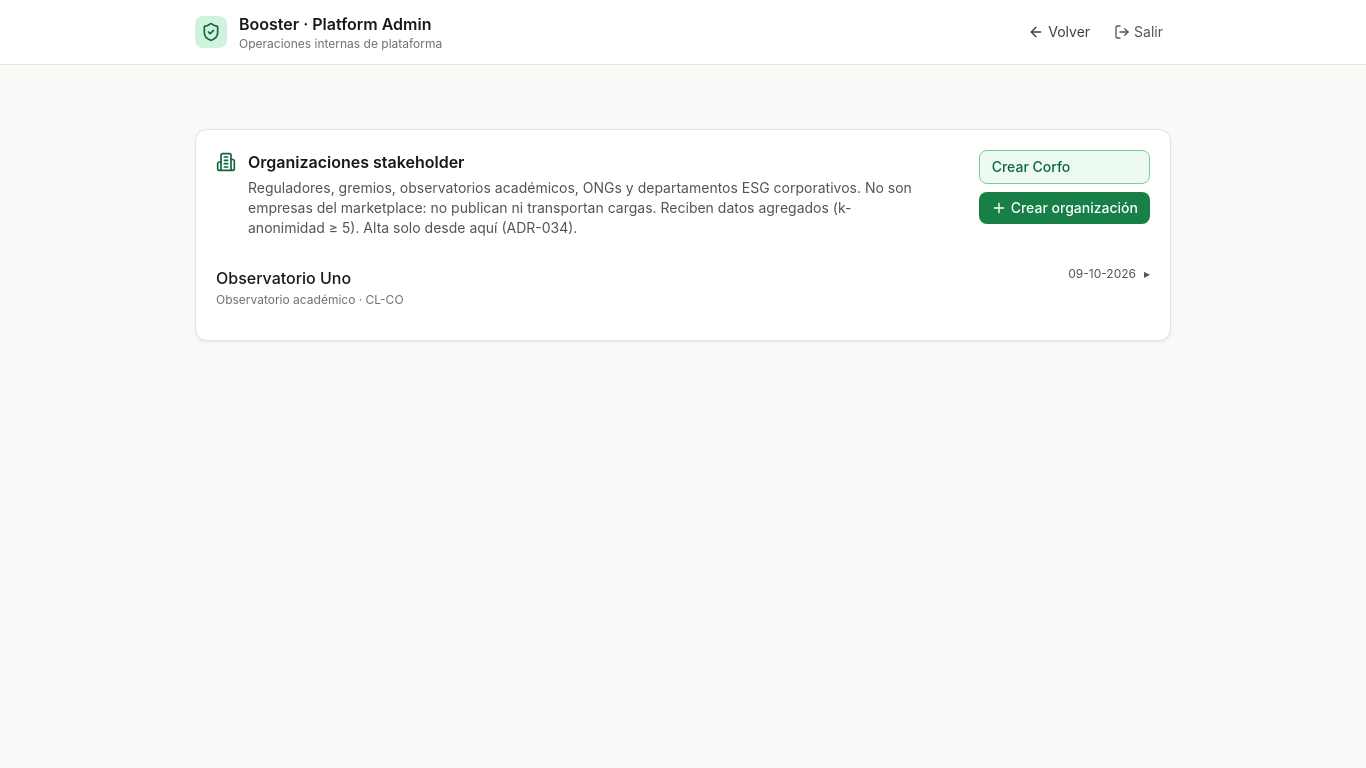
Test: invitar miembro stakeholder › si la persona ya tiene cuenta, el aviso de vínculo queda visible
Click the button "Observatorio Uno Observatorio académico · CL-CO 09-10-2026 ▸".
click(284, 278)  # box [216,266,1150,308]
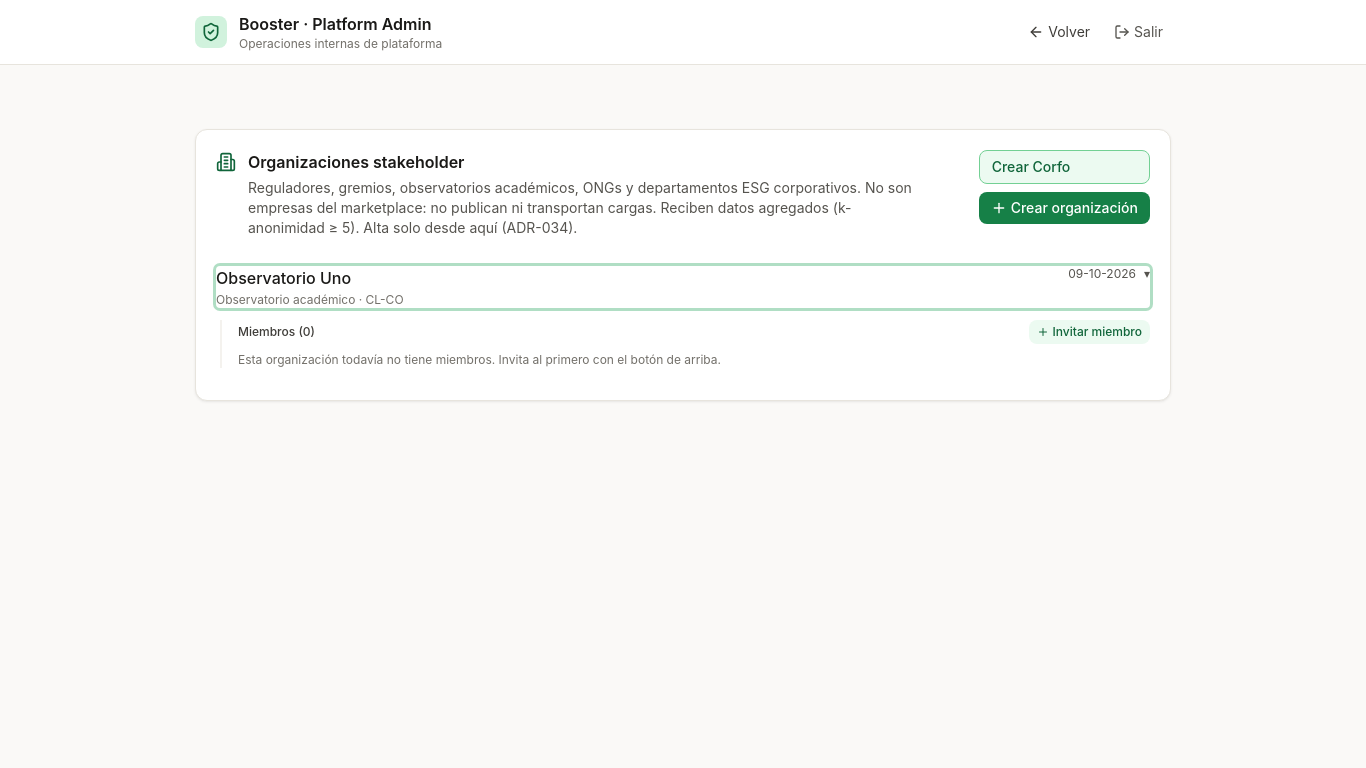
Click the button "Invitar miembro".
click(1089, 332)  # box [1028,320,1150,344]
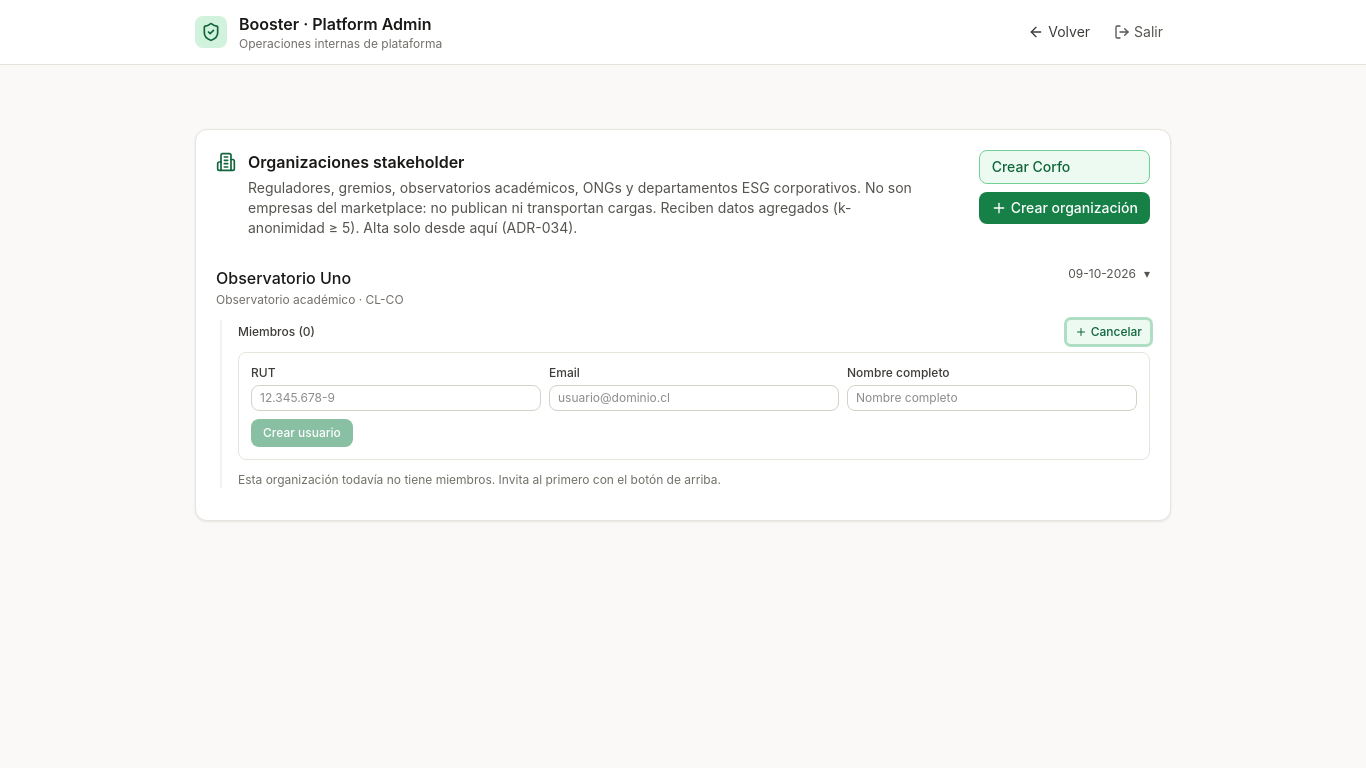
Type "75757575-2" into the field labelled "RUT".
click(396, 398); type("75757575-2")  # box [251,385,541,411]
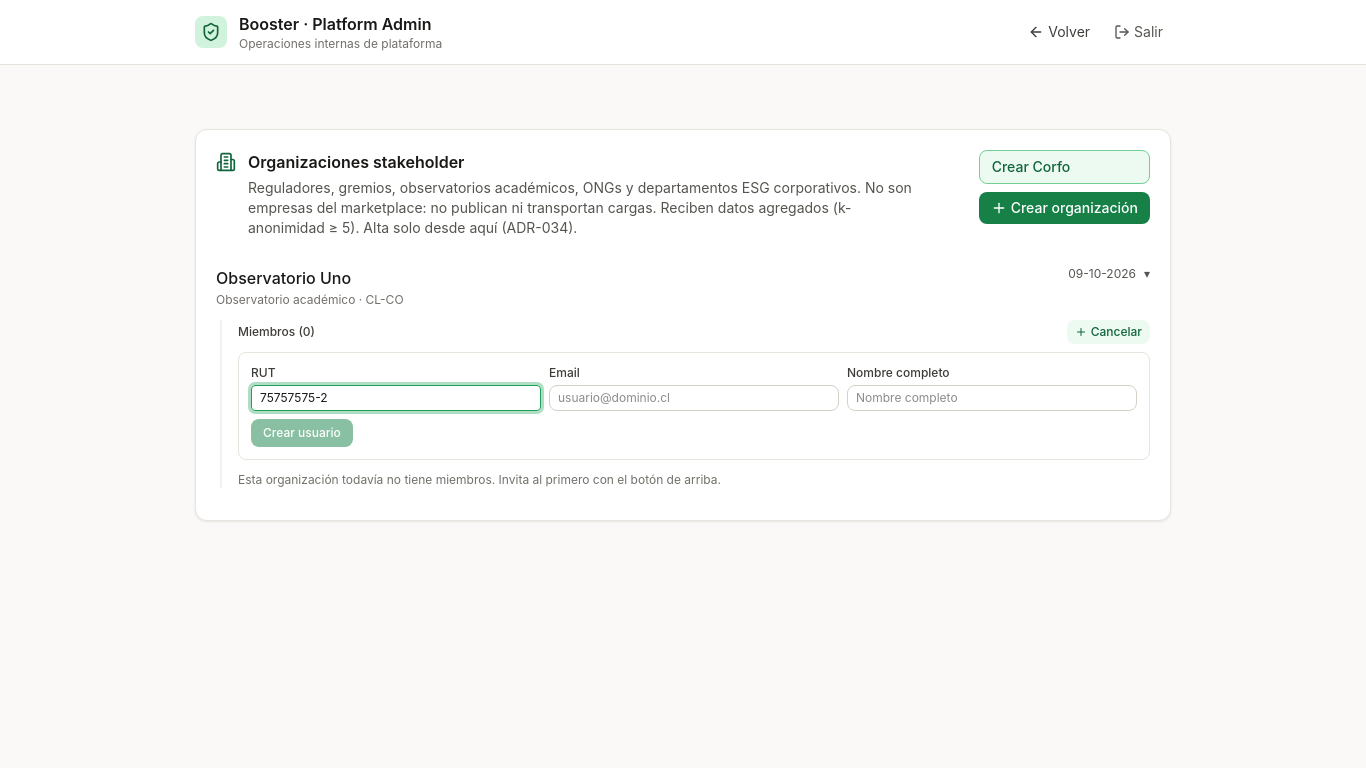
Type "analista@observatorio.cl" into the field labelled "Email".
click(694, 398); type("analista@observatorio.cl")  # box [549,385,839,411]
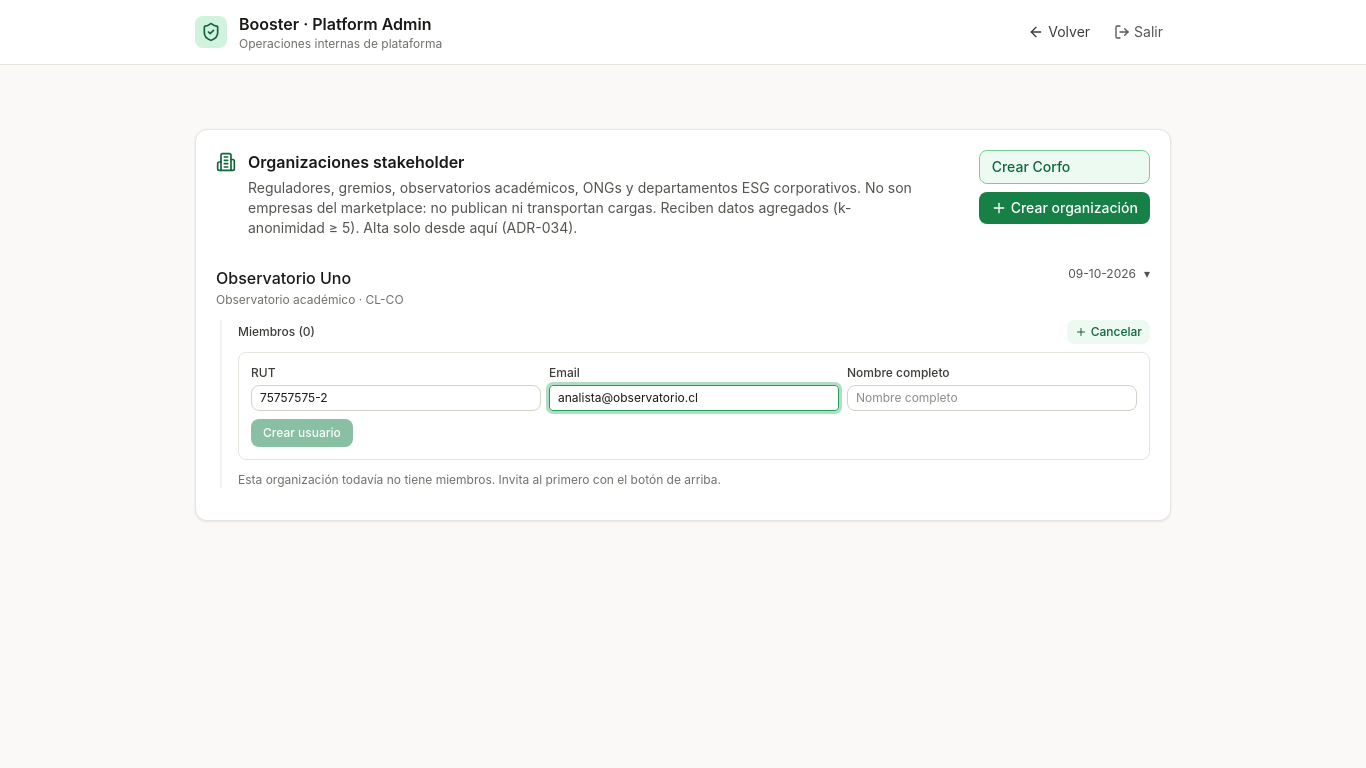
Type "Analista Uno" into the field with placeholder "Nombre completo".
click(992, 398); type("Analista Uno")  # box [847,385,1137,411]
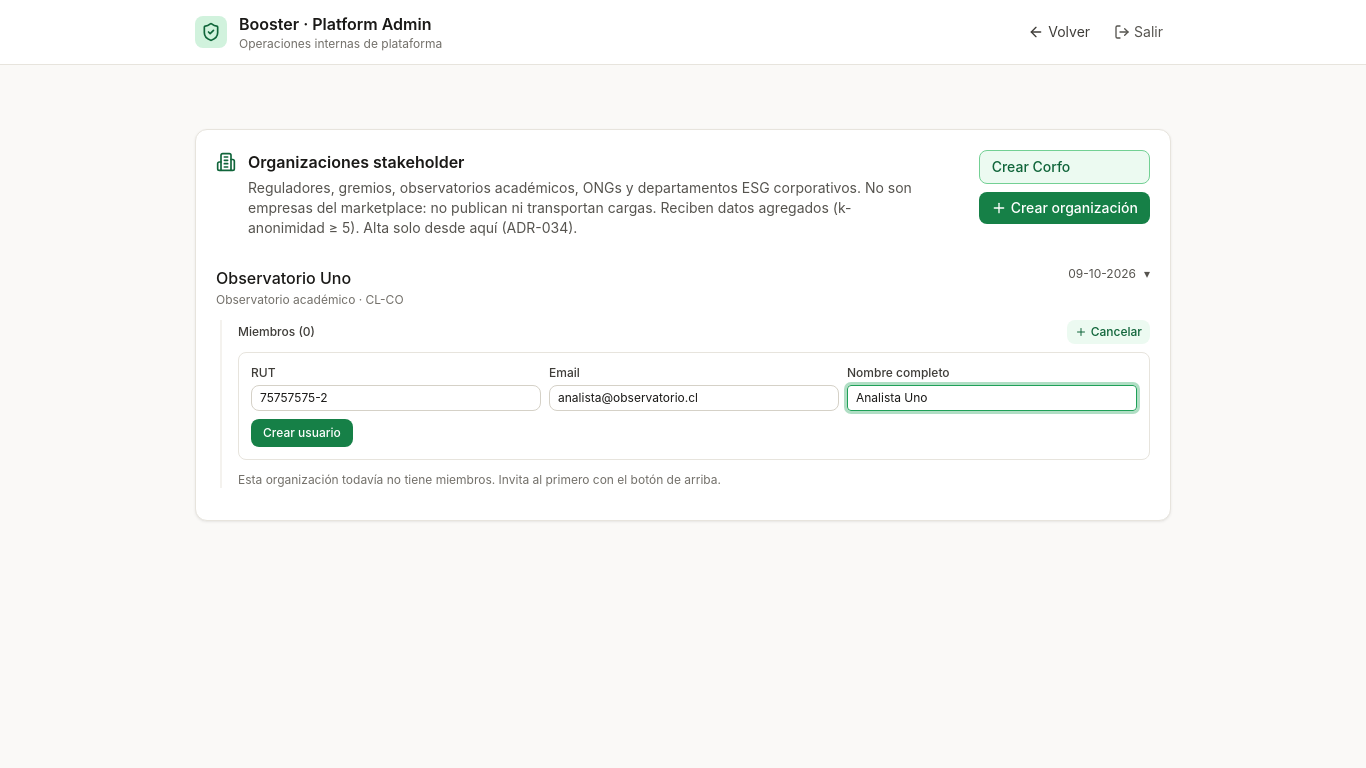
Click the button "Crear usuario".
click(302, 433)  # box [251,419,353,447]
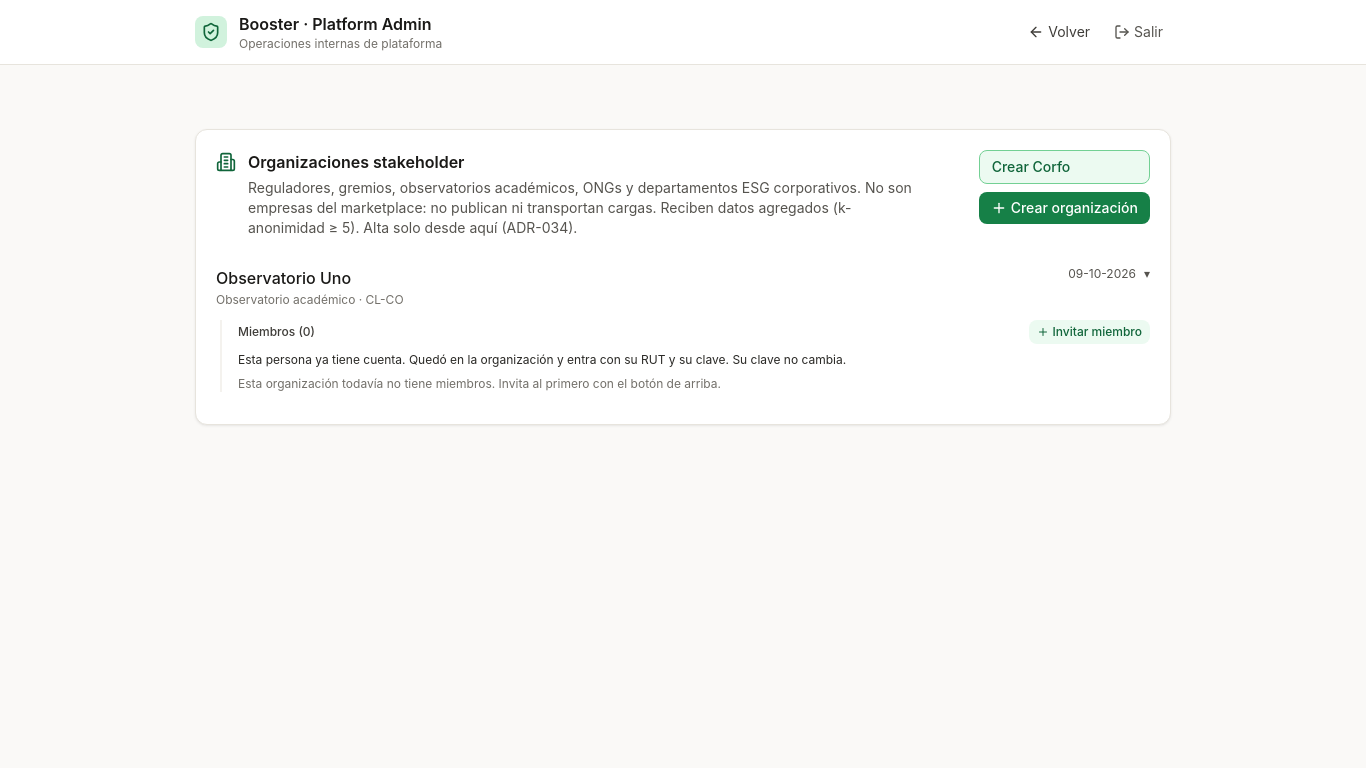
Result: the text with test id "stakeholder-vinculo" shows "Esta persona ya tiene cuenta" at [238,352,846,367]
